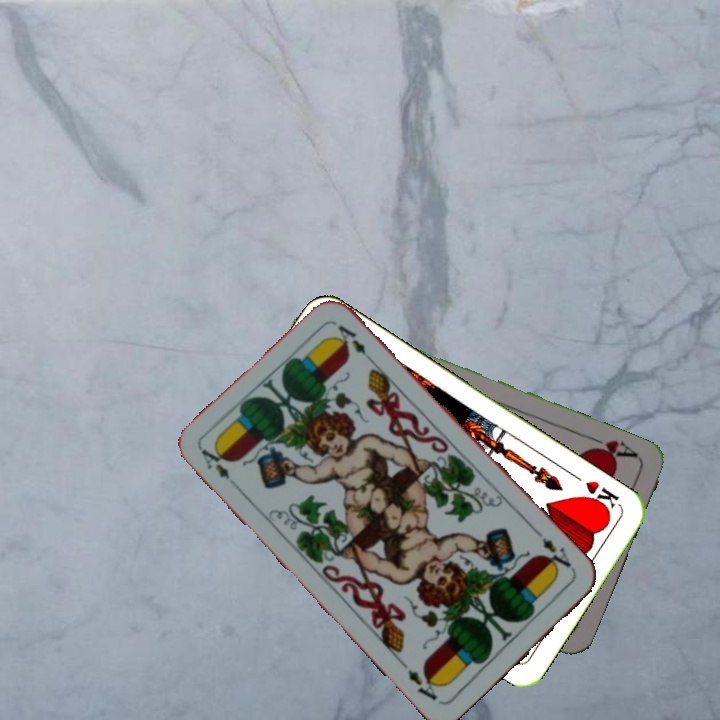EA: (197, 443, 242, 492), (538, 533, 578, 576)
HA: (584, 431, 641, 464)
HK: (580, 476, 623, 515)
